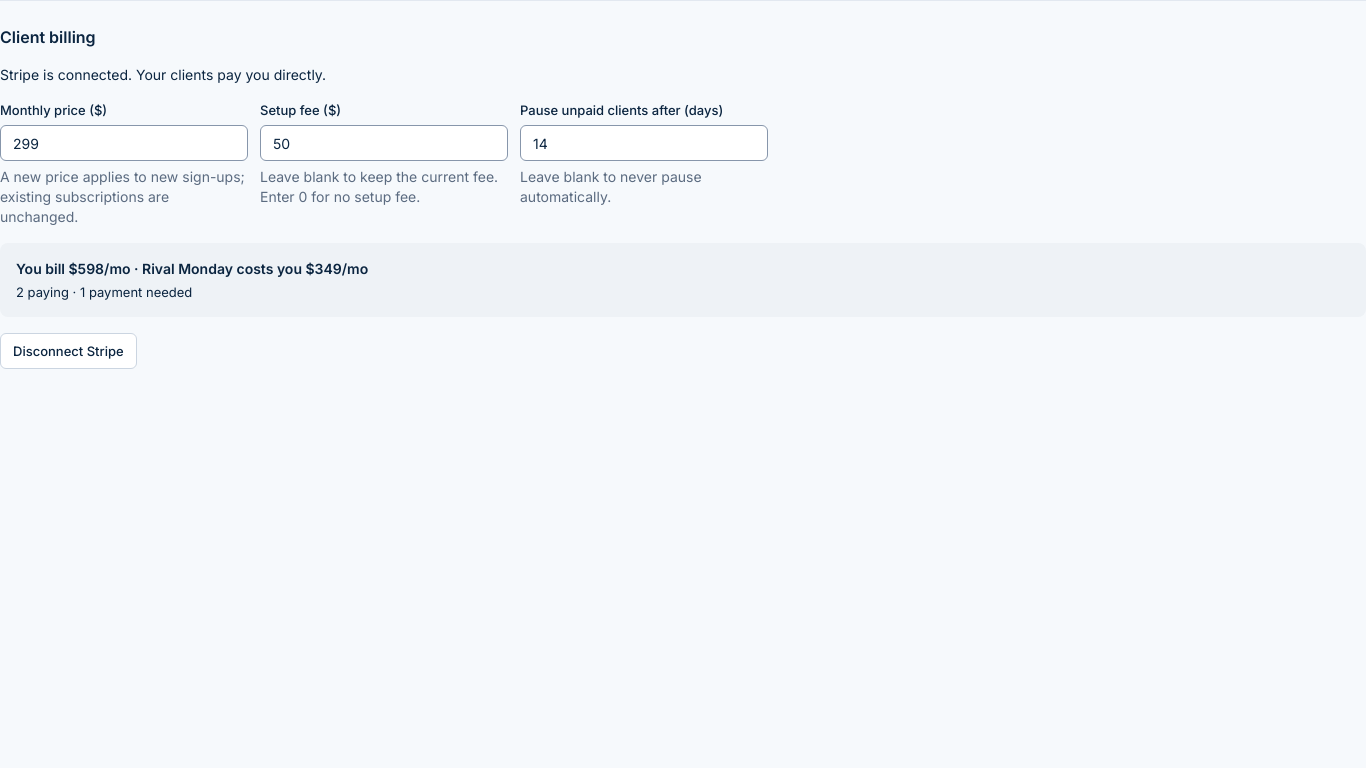
Scenario: disabled while pending and in-dialog errors › a disconnect failure shows its alert on the card after the dialog closes
Click the button "Disconnect Stripe" at (68, 351), box [0,333,137,369]
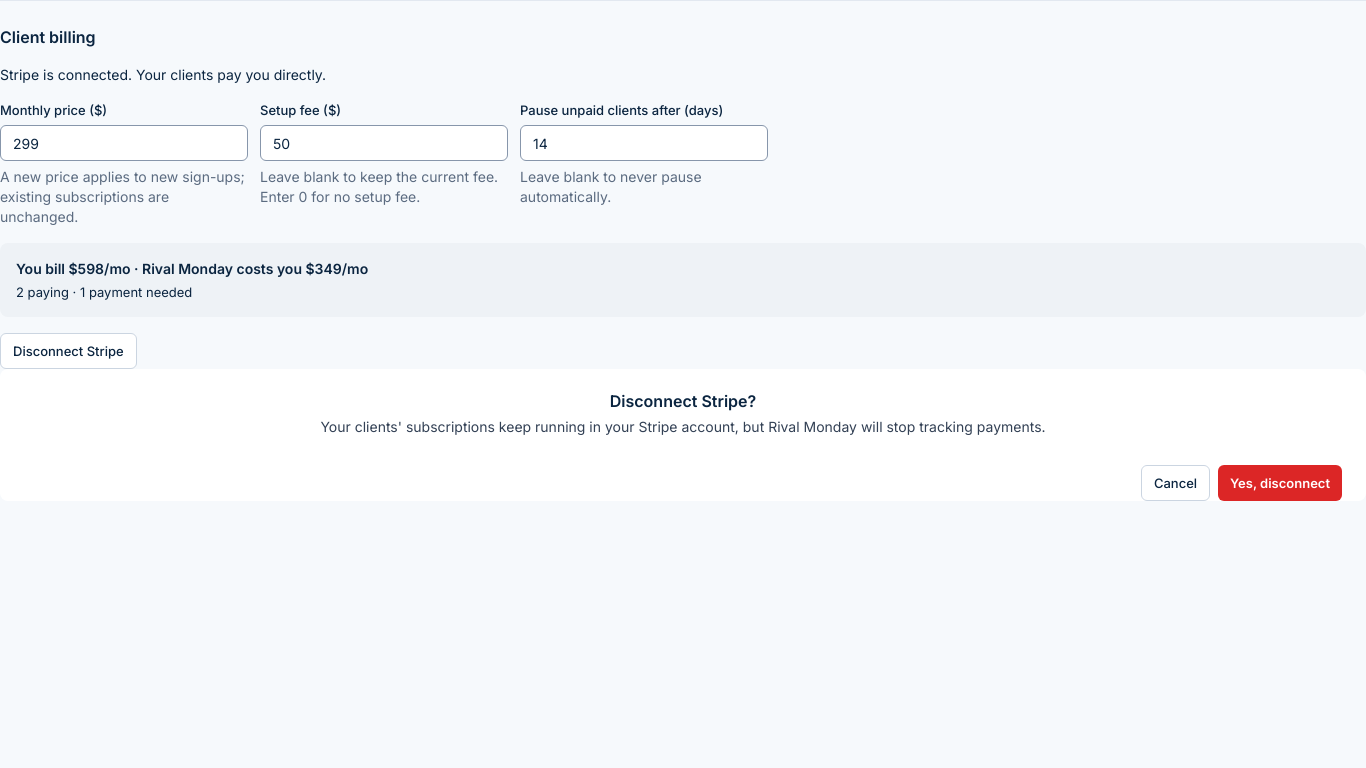
Submit the form named "Yes, disconnect", box [320,391,1342,501]
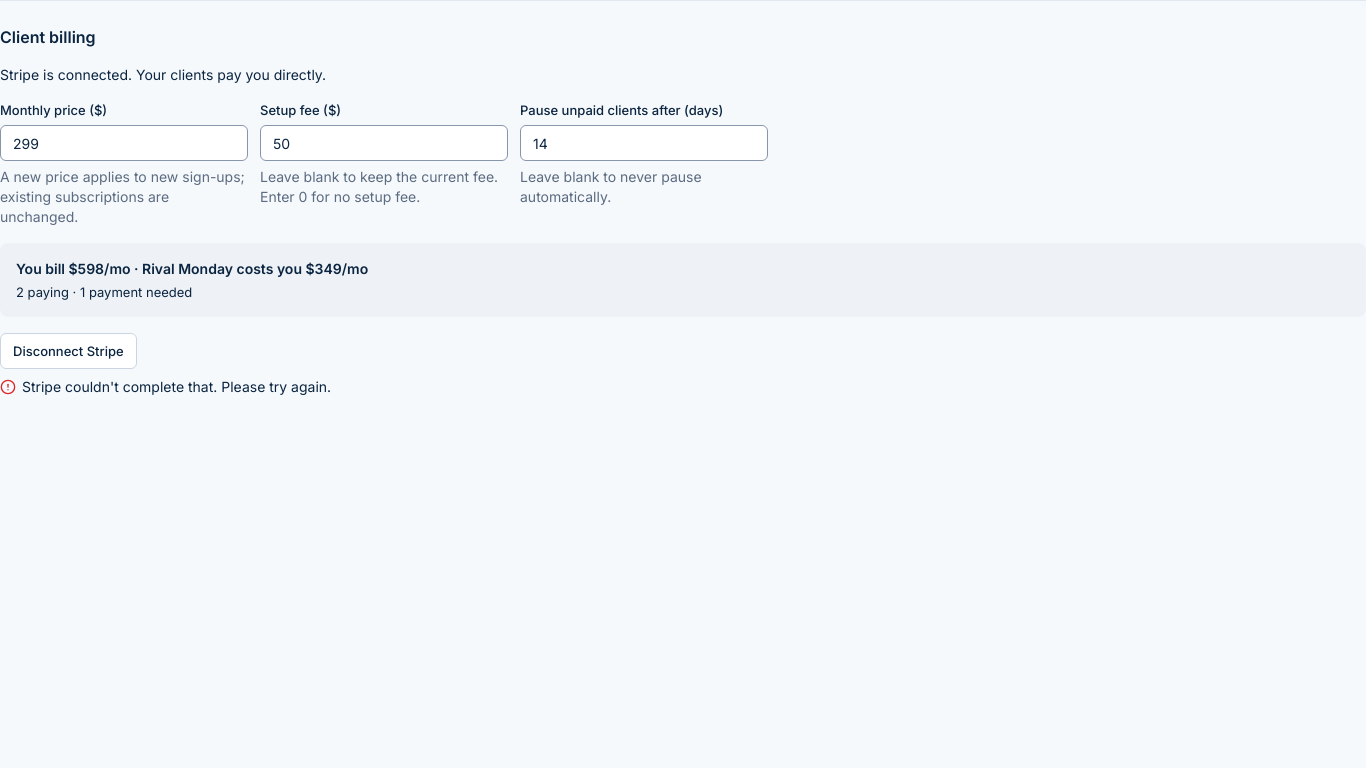
Result: the message shows "Stripe couldn't complete that" at [22,378,331,395]
